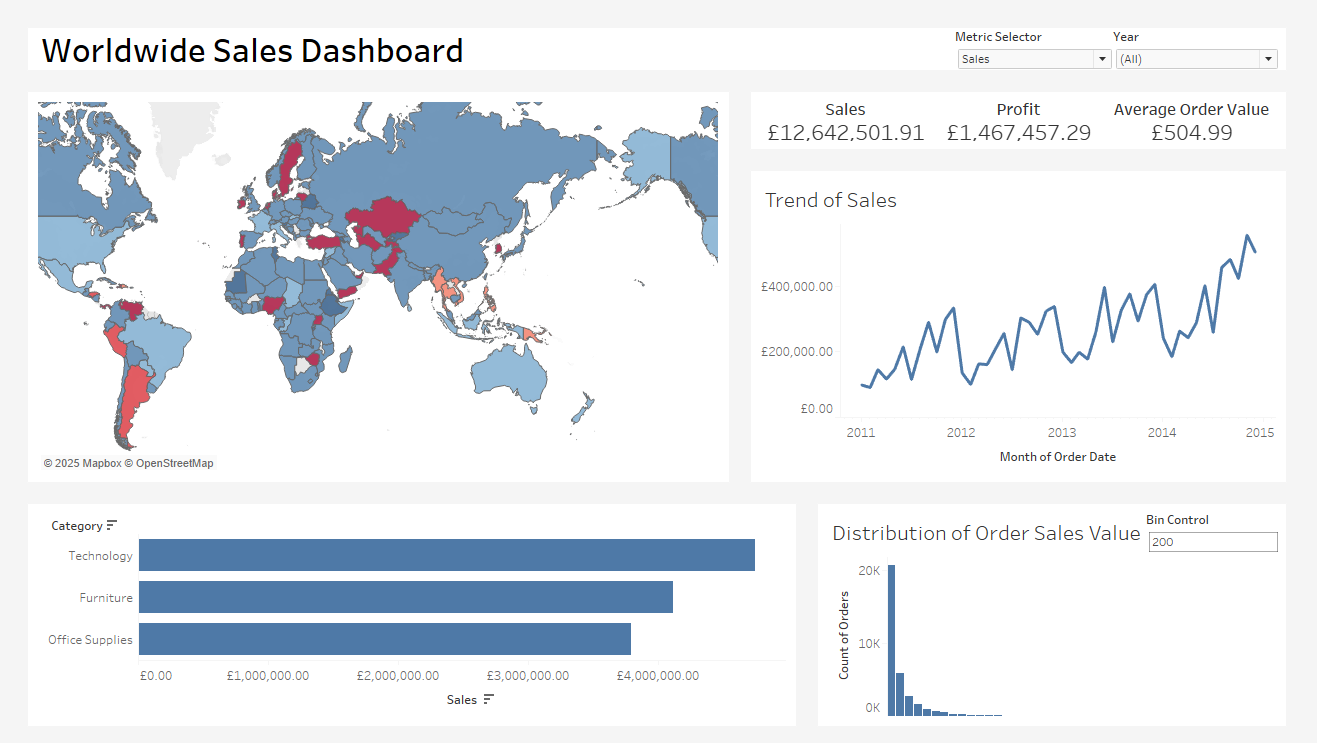

This screenshot's page, from the dashboard's own definition file:
{"tool":"tableau","page":{"name":"Dashboard Final ","canvas":[1280,720],"ordinal":0},"visuals":[{"type":"text","box":[0,0,1280,64]},{"type":"parameter","param":"[Parameters].[Parameter 2]","box":[938,11,160,48]},{"type":"filter","title":"Trend of profit or sales","param":"[federated.0btv2od0czriyw11jt19s1bigyv6].[yr:Order Date:ok]","box":[1096,11,168,49]},{"type":"worksheet","title":"KPIs","mark":"Text","box":[723,64,557,79]},{"type":"worksheet","title":"Profit Ratio by Country","mark":"Automatic","box":[21,85,680,370]},{"type":"worksheet","title":"Profit Ratio by State","mark":"Automatic","box":[701,85,1,370]},{"type":"worksheet","title":"Trend of profit or sales","mark":"Automatic","rows":["Calculation_1125967248420864"],"cols":["Order Date"],"box":[723,143,557,333]},{"type":"worksheet","title":"Profit and Sales by Category","mark":"Automatic","rows":["Category"],"cols":["Calculation_1125967248420864"],"box":[0,476,790,244]},{"type":"worksheet","title":"Distribution of Order Metric Value","mark":"Automatic","rows":["Order ID"],"cols":["Selected Metric (bin)"],"box":[790,476,490,244]},{"type":"parameter","param":"[Parameters].[Parameter 1]","box":[1129,494,135,44]}]}

Visuals, with their boxes in screenshot pixels (x1, y1, x2, y2), scaled from the page's 1280x720 canvas onto the 1317x743 screenshot:
text: [0, 0, 1316, 66]
parameter: [965, 11, 1130, 61]
"Trend of profit or sales" filter: [1128, 11, 1301, 62]
"KPIs" worksheet (Text marks): [744, 66, 1316, 148]
"Profit Ratio by Country" worksheet: [22, 88, 721, 470]
"Profit Ratio by State" worksheet: [721, 88, 722, 470]
"Trend of profit or sales" worksheet: [744, 148, 1316, 491]
"Profit and Sales by Category" worksheet: [0, 491, 813, 742]
"Distribution of Order Metric Value" worksheet: [813, 491, 1316, 742]
parameter: [1162, 510, 1301, 555]
